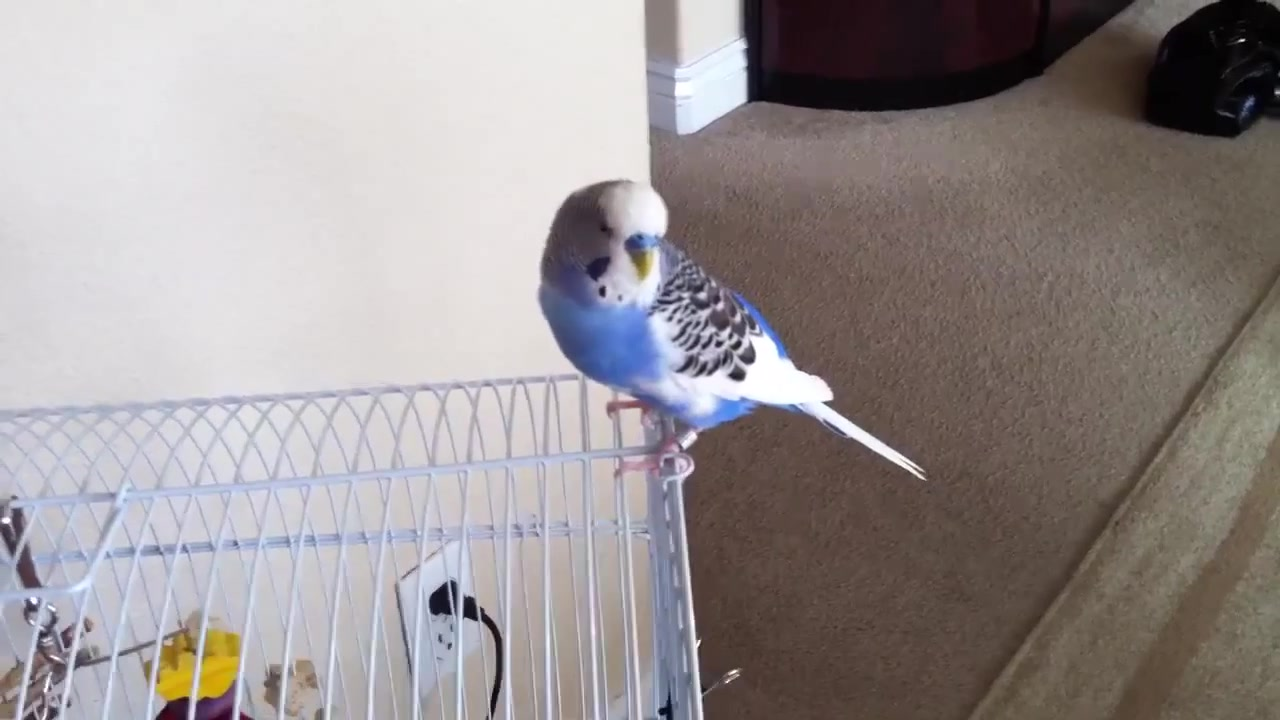bird: (536, 180, 929, 481)
